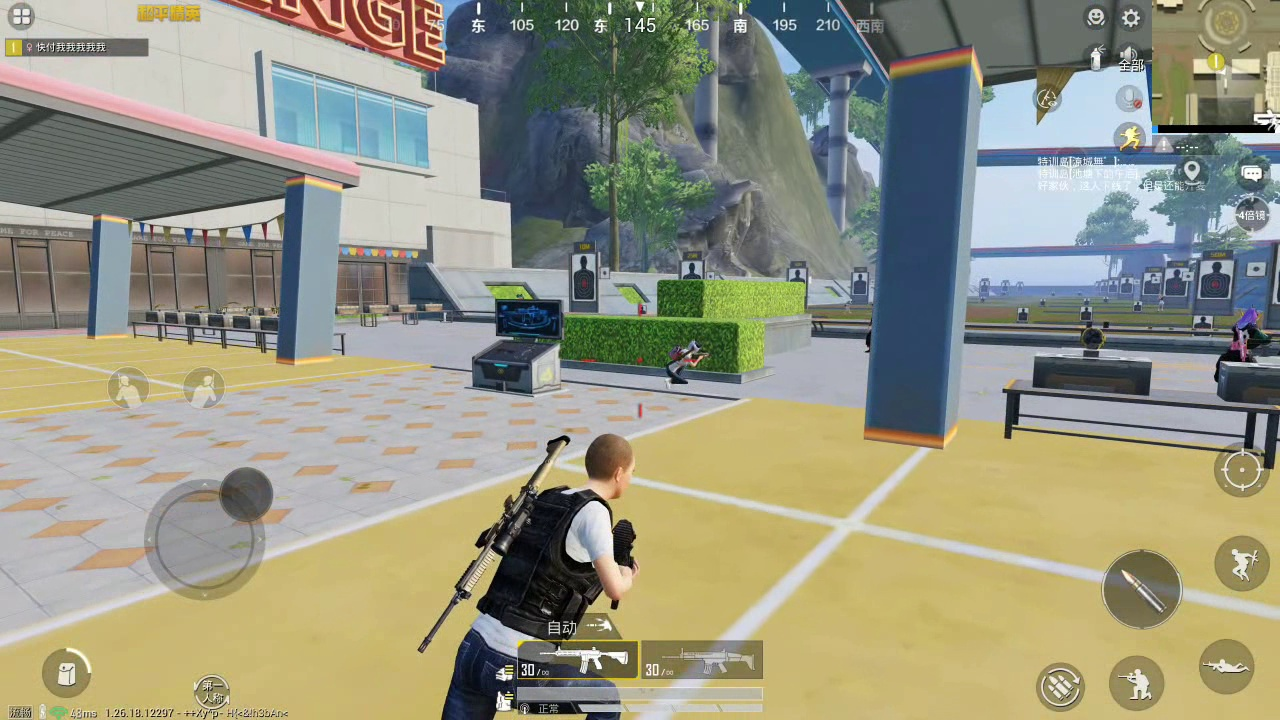enemy: (1218, 307, 1274, 360), (666, 341, 703, 387)
